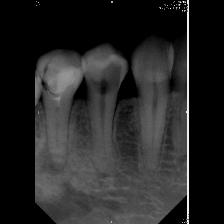apical_lesion: (82, 46, 131, 201), (36, 50, 88, 193)
